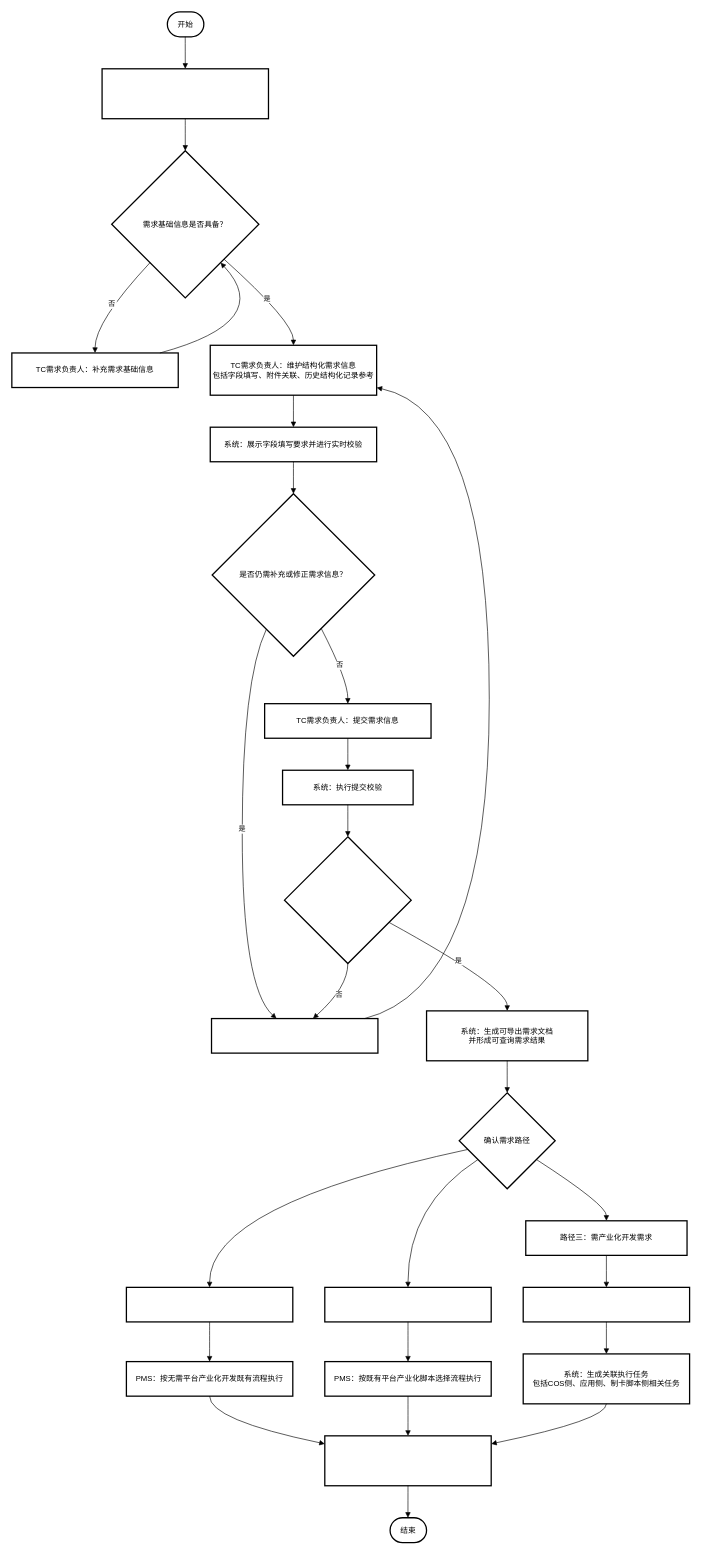
The diagram is 701 pixels wide and 1554 high, and some of its shapes have lost their labels. The centre of each missing label's shape, as x and y in pixels:
TC需求负责人：收集并整理待评估需求信息 来源包括PMS线上流程或线下需求，具体范围待确认: [185,93]
TC需求负责人：补充或修正需求信息: [294,1035]
提交校验是否通过？: [348,900]
系统：创建产业化开发任务单: [606,1304]
系统：记录需求路径判断结果、确认依据和PMS关联信息 PMS协同方式待确认: [408,1460]
路径一：无需平台产业化开发需求: [209,1304]
路径二：可直接选用既有平台产业化脚本需求: [408,1304]
